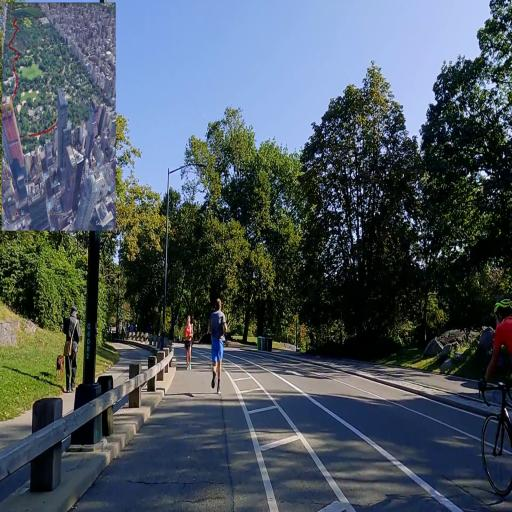Street_Light: (159, 157, 209, 357)
